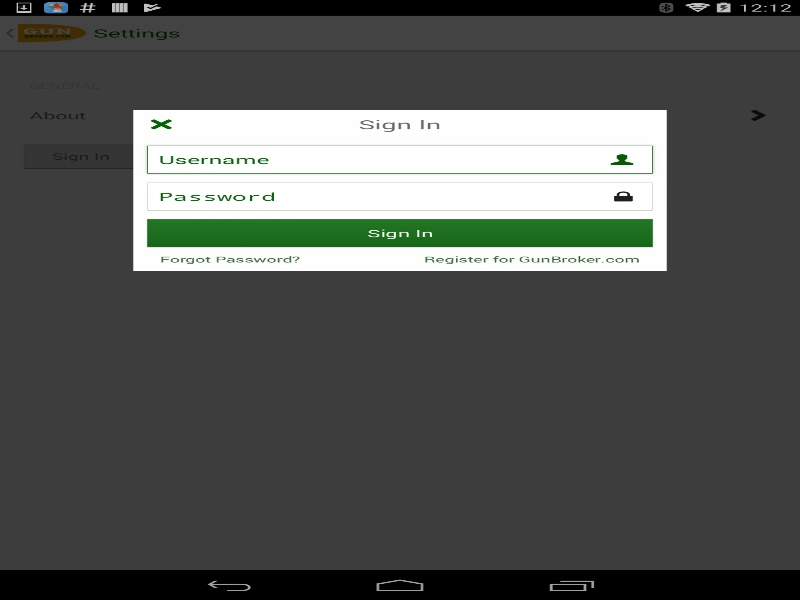Input: (142, 143, 657, 175), (142, 180, 657, 212)
